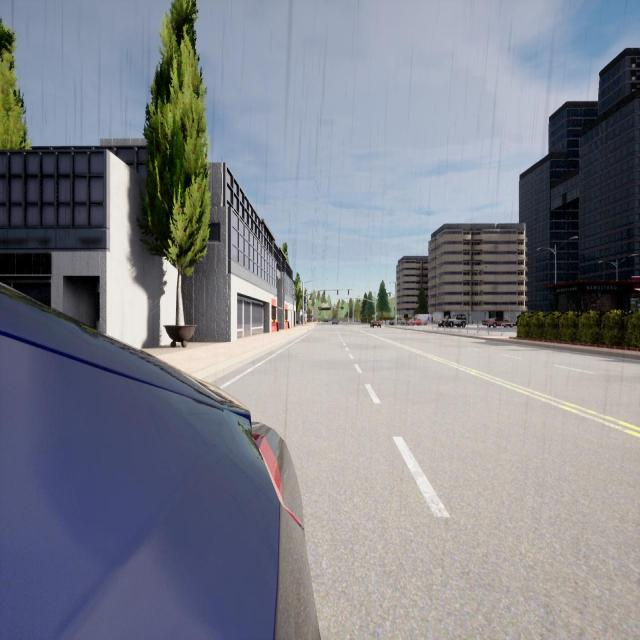Vehicle: (0, 284, 319, 638), (482, 317, 514, 328), (448, 314, 467, 328), (412, 314, 431, 326), (438, 315, 449, 327), (389, 318, 406, 325), (407, 318, 423, 325), (371, 319, 382, 328), (332, 318, 338, 324), (323, 316, 328, 322)
traffic_light: (348, 289, 349, 295), (324, 290, 325, 295), (337, 290, 338, 295), (394, 306, 395, 310), (374, 310, 376, 312), (359, 298, 360, 302), (390, 293, 390, 297), (342, 298, 342, 301), (350, 298, 350, 302)
